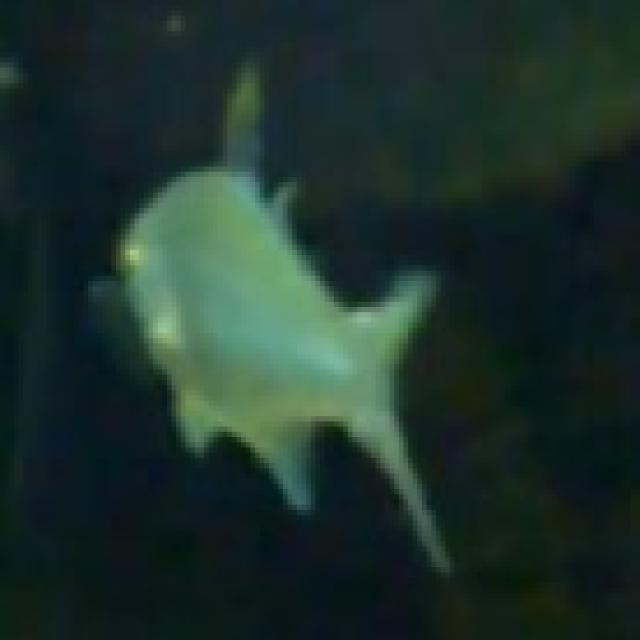Glass-Perchlet: (49, 0, 503, 558)
